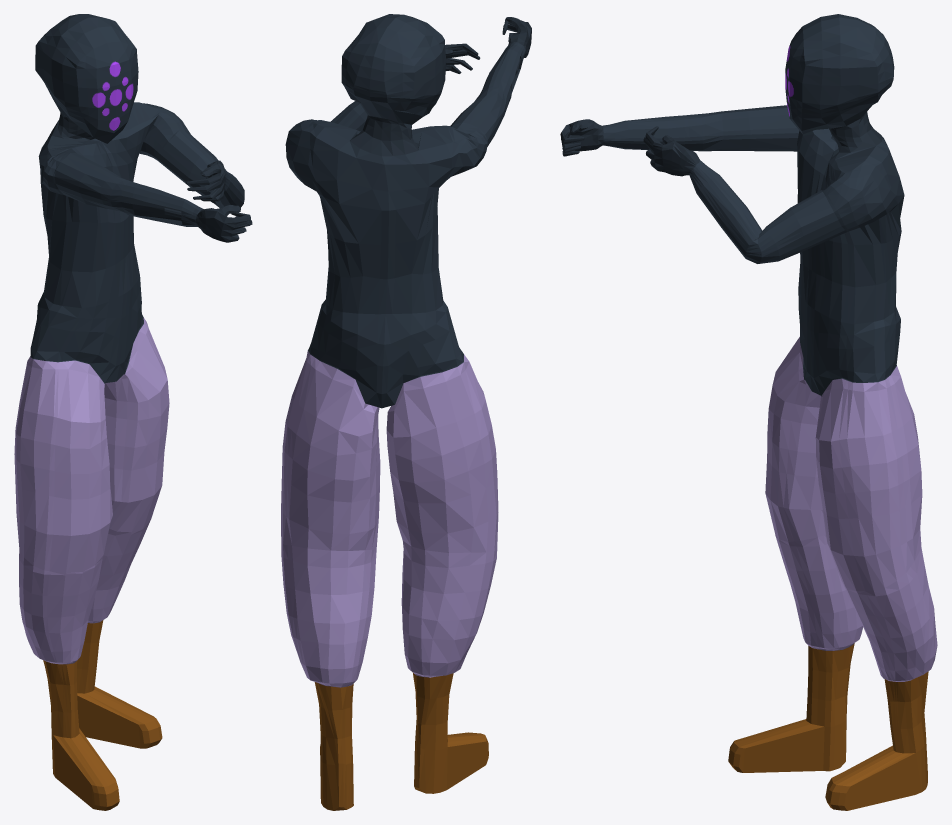
File: Oracle_Attack_000010.obj
3 views of the same model, side by side, from view 1: azimuth 30°, elevation 25°; view 2: azimuth 150°, elevation 25°; view 3: azimuth 270°, elevation 25° (orthographic). The views are drawn at different scales.
Parts seen in each view (by area): view 1: Cube; view 2: Cube; view 3: Cube.
Part boxes in pixels (<box>): Cube: <box>14,14,252,810</box>; Cube: <box>281,14,531,810</box>; Cube: <box>560,14,937,810</box>.
Size of the model in its own units: 1.08 by 3.94 by 1.76.
